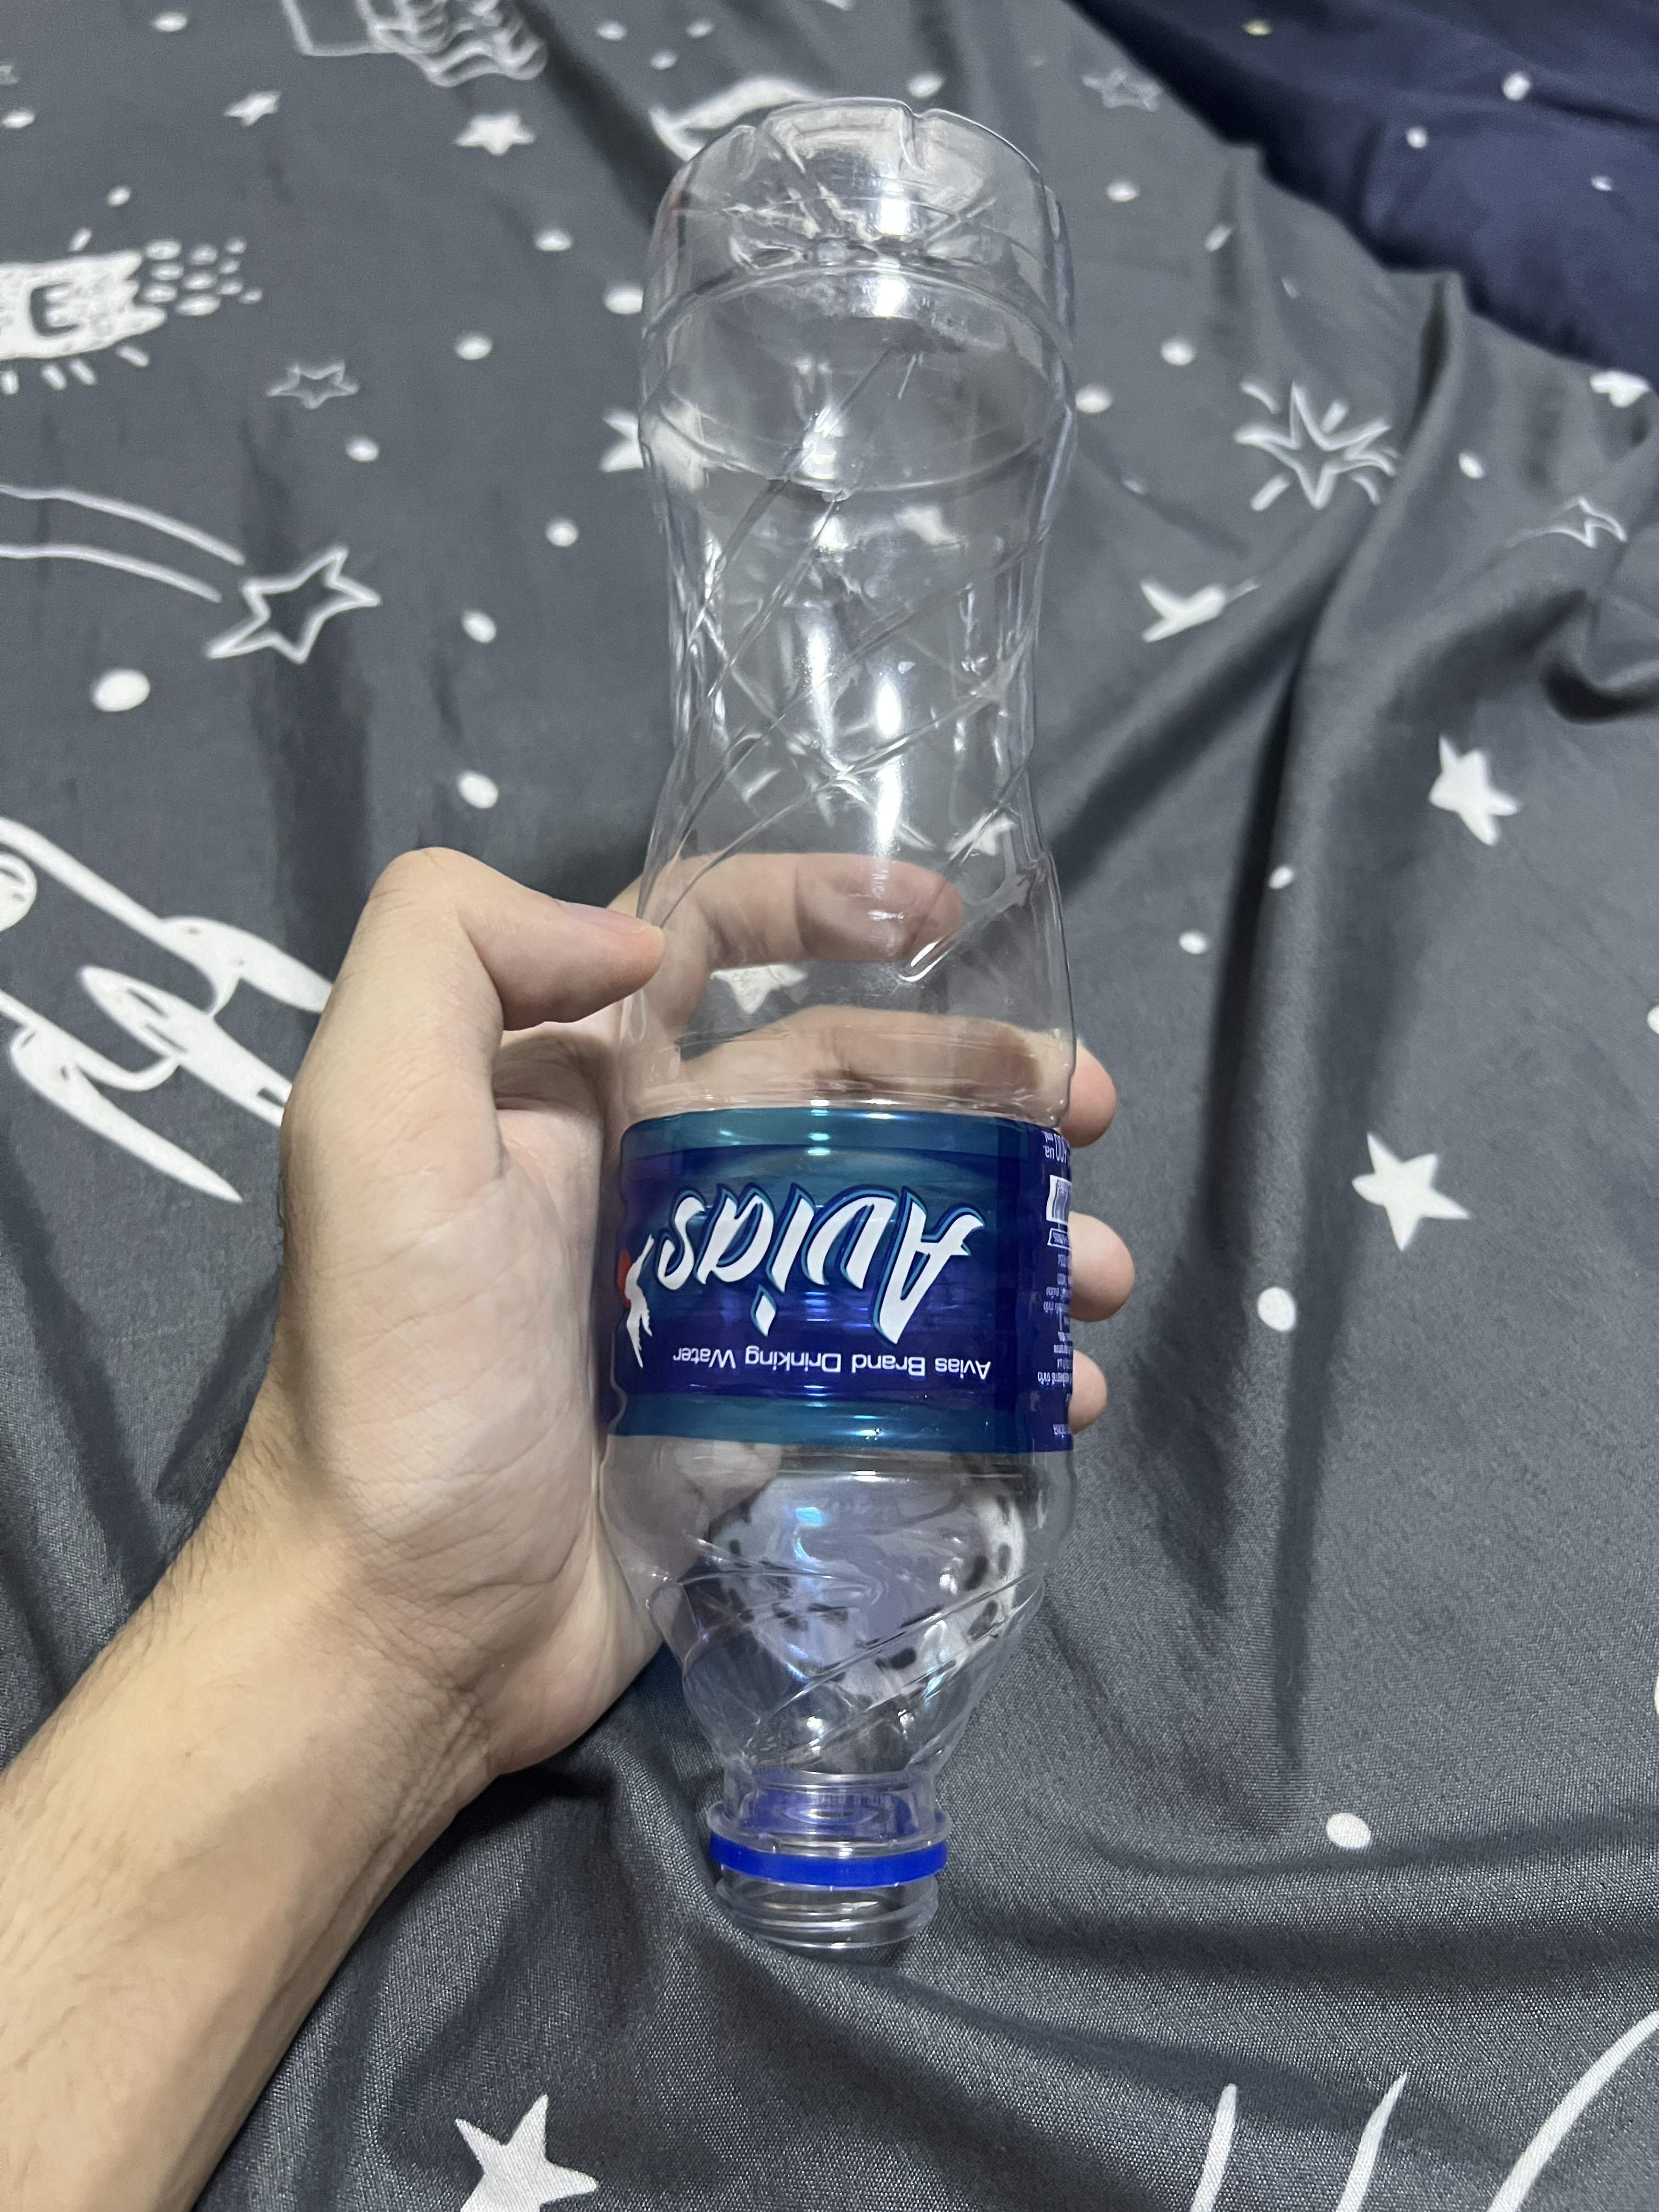plastic_bottle: (587, 94, 1124, 1982)
